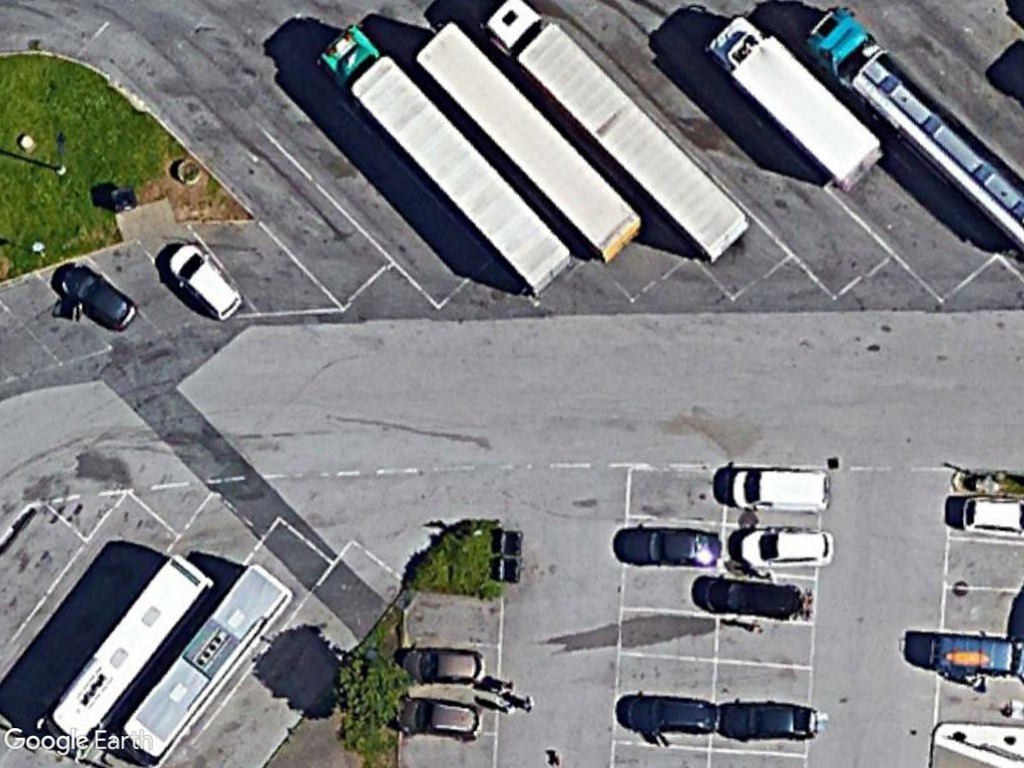bus: (115, 560, 299, 768), (45, 546, 219, 749)
car: (160, 235, 248, 328), (56, 256, 143, 337), (715, 697, 825, 746), (388, 693, 490, 744), (617, 692, 723, 741), (613, 525, 726, 570), (728, 527, 841, 570), (394, 643, 492, 689)
longvehicle: (315, 14, 578, 302), (474, 1, 753, 267)
truck: (701, 10, 886, 195)
van: (723, 464, 838, 515)
